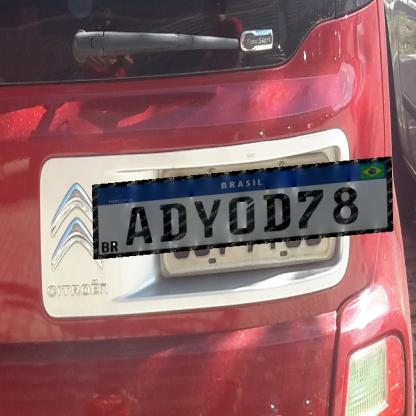PlacaM: (92, 157, 393, 259)
